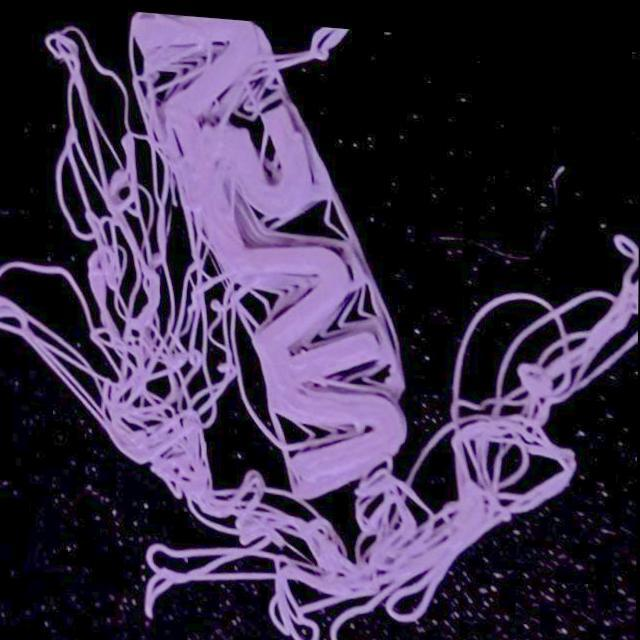spaghetti: (74, 91, 202, 387), (464, 280, 629, 413), (190, 466, 321, 581), (461, 408, 576, 519), (356, 480, 442, 612), (119, 355, 210, 474), (275, 545, 354, 640), (55, 30, 109, 118), (5, 315, 77, 373)
